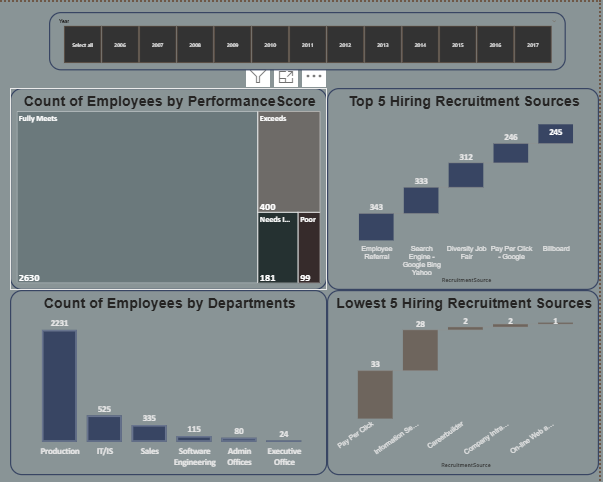

This screenshot's page, from the dashboard's own definition file:
{"tool":"powerbi","page":{"name":"Performance & Recruitment Sources","canvas":[1500,1200],"ordinal":1},"visuals":[{"type":"columnChart","title":"Count of Employees by Departments","fields":{"Category":["Dep name.Dep name"],"Y":["Count(HR main table.EmpID)"]},"box":[27.5,720,792.5,462.5],"z":0},{"type":"treemap","title":"Count of  Employees by PerformanceScore","fields":{"Group":["HR main table.PerformanceScore"],"Values":["Count(HR main table.EmpID)"]},"box":[27.5,215,792.5,505],"z":1000},{"type":"waterfallChart","title":"Lowest 5 Hiring Recruitment Sources","fields":{"Category":["HR main table.RecruitmentSource"],"Y":["Count(HR main table.EmpID)"]},"box":[820,720,680,462.5],"z":2000},{"type":"waterfallChart","title":"Top 5 Hiring Recruitment Sources","fields":{"Category":["HR main table.RecruitmentSource"],"Y":["Count(HR main table.EmpID)"]},"box":[820,215,680,505],"z":3000},{"type":"slicer","fields":{"Values":["HR main table.DateofHire.Variation.Date Hierarchy.Year"]},"box":[126,24,1292,146],"z":4000}]}

Visuals, with their boxes in screenshot pixels (x1, y1, x2, y2), scaled from the page's 1500x1200 canvas onto the 603x482 screenshot:
"Count of Employees by Departments" columnChart: crop(11, 289, 330, 475)
"Count of  Employees by PerformanceScore" treemap: crop(11, 86, 330, 289)
"Lowest 5 Hiring Recruitment Sources" waterfallChart: crop(330, 289, 602, 475)
"Top 5 Hiring Recruitment Sources" waterfallChart: crop(330, 86, 602, 289)
slicer - HR main table.DateofHire.Variation.Date Hierarchy.Year: crop(51, 10, 570, 68)
